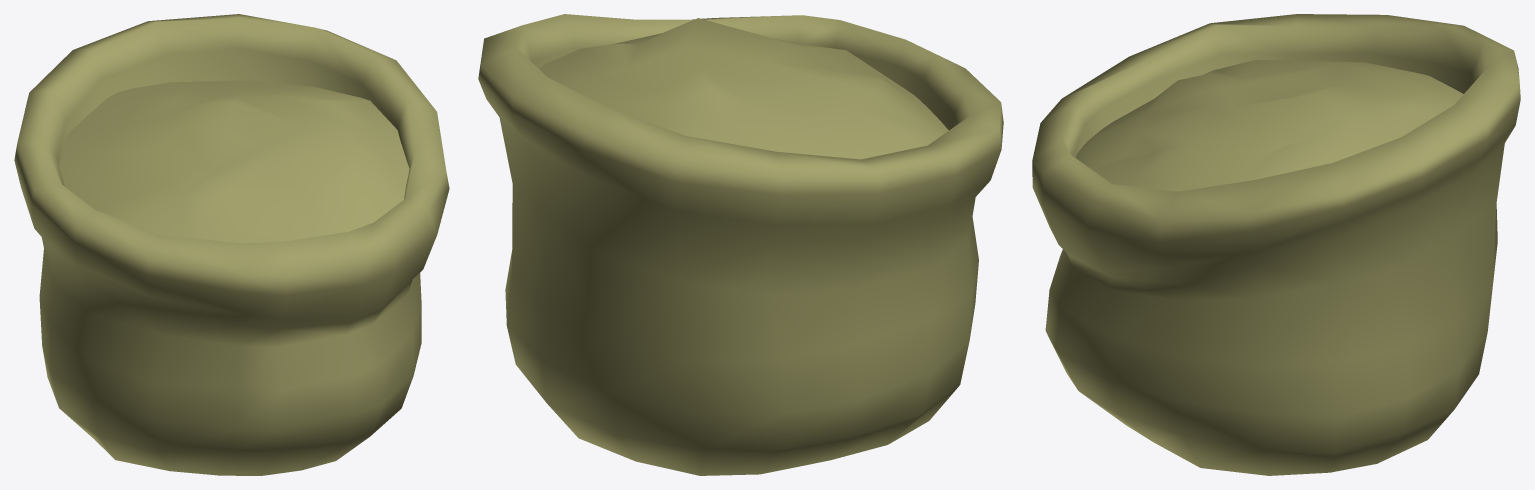
File: Bag_02_Lod0.fbx
The picture shows the model from 3 angles, left to right: view 1: azimuth 30°, elevation 25°; view 2: azimuth 150°, elevation 25°; view 3: azimuth 270°, elevation 25°; orthographic projection. The views are drawn at different scales.
Visible parts, largest first — view 1: Bag_02_Lod0; view 2: Bag_02_Lod0; view 3: Bag_02_Lod0.
Boxes of the visible parts, left/top/right/bottom form: Bag_02_Lod0: left=14, top=14, right=449, bottom=475; Bag_02_Lod0: left=478, top=14, right=1003, bottom=475; Bag_02_Lod0: left=1032, top=14, right=1520, bottom=475.
Bounding box in the file's own units: 50.07 × 40.32 × 50.45.
